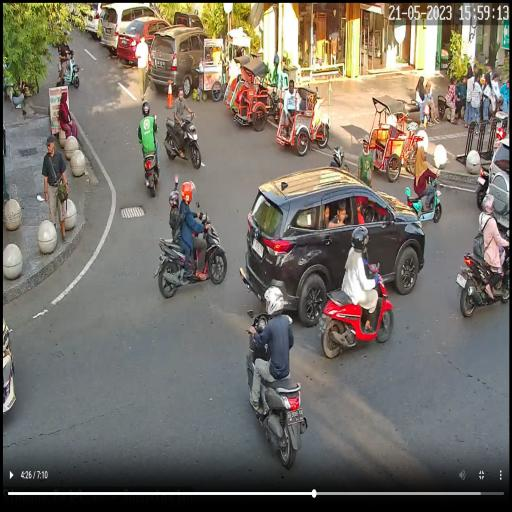mobil: (241, 167, 425, 327), (148, 24, 211, 98), (120, 13, 170, 66), (102, 4, 157, 52)
motor: (240, 300, 304, 461), (318, 253, 402, 357), (153, 199, 226, 306), (450, 222, 509, 316), (162, 110, 206, 176)
